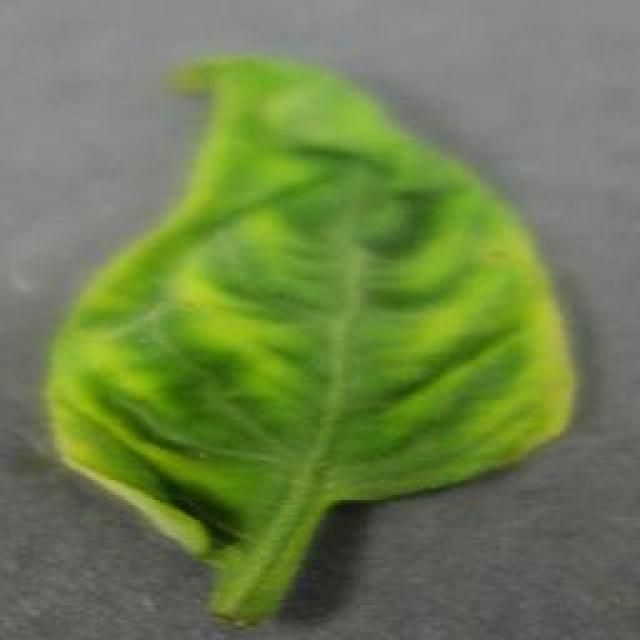Tomato yellow virus leaf: (48, 54, 580, 558)
